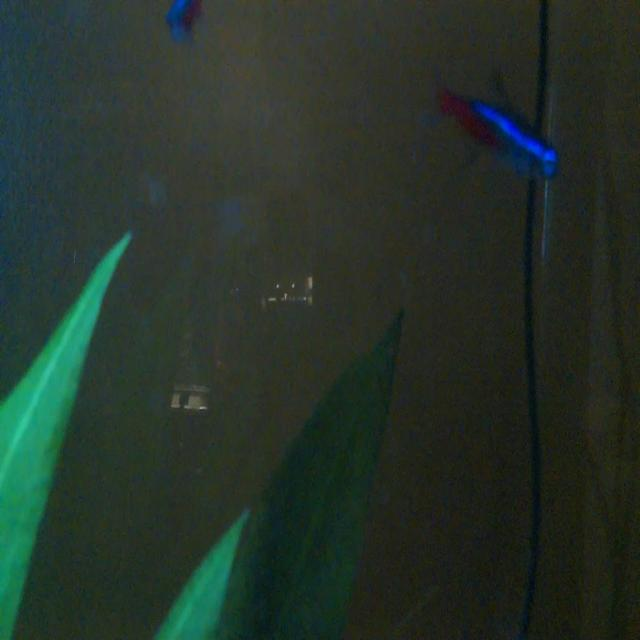fish: (425, 69, 569, 210)
